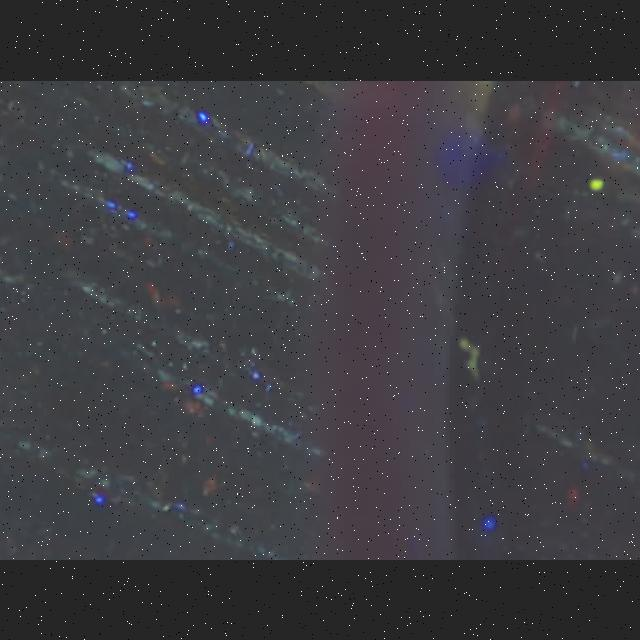Fibre: (458, 336, 482, 382)
microbeads: (588, 176, 608, 190)
